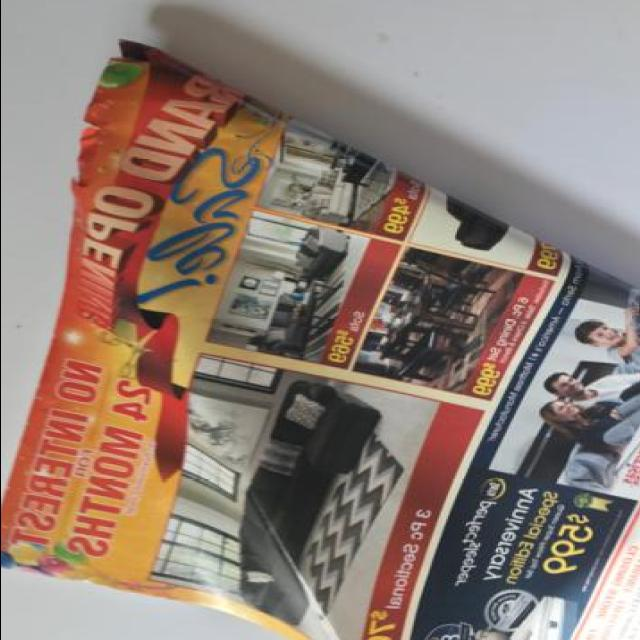kertas: (0, 39, 640, 640)
